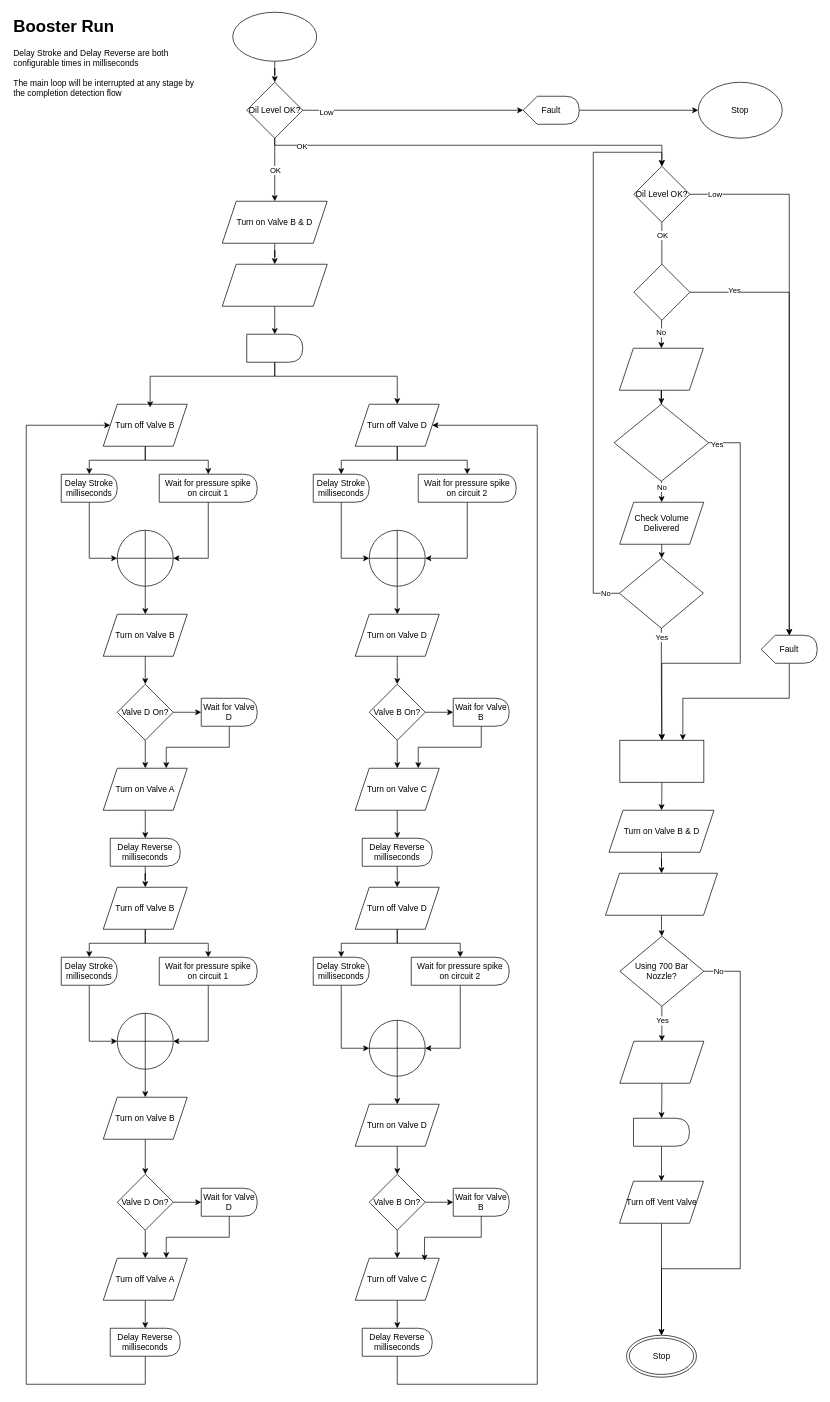
Some shapes in this 830 by 1402 pixel diagram are drawn without their labels. Here are the shapes that lost their labels. From the top down, the box of each, then its label:
(232, 12, 317, 61): Start
(222, 264, 327, 306): Turn on Pump 1 & 2
(633, 264, 690, 320): Fault?
(246, 334, 303, 362): Delay 8 seconds
(619, 348, 703, 390): Check Output Pressure
(613, 404, 709, 481): Target Pressure Reached?
(619, 558, 703, 628): Target Volume Delivered?
(619, 740, 704, 782): Stop Fill Process
(605, 873, 718, 915): Turn off Pump 1 & 2
(619, 1041, 704, 1083): Turn on Vent Valve
(633, 1118, 690, 1146): Delay Vent milliseconds
